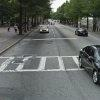Car: (71, 39, 99, 90)
